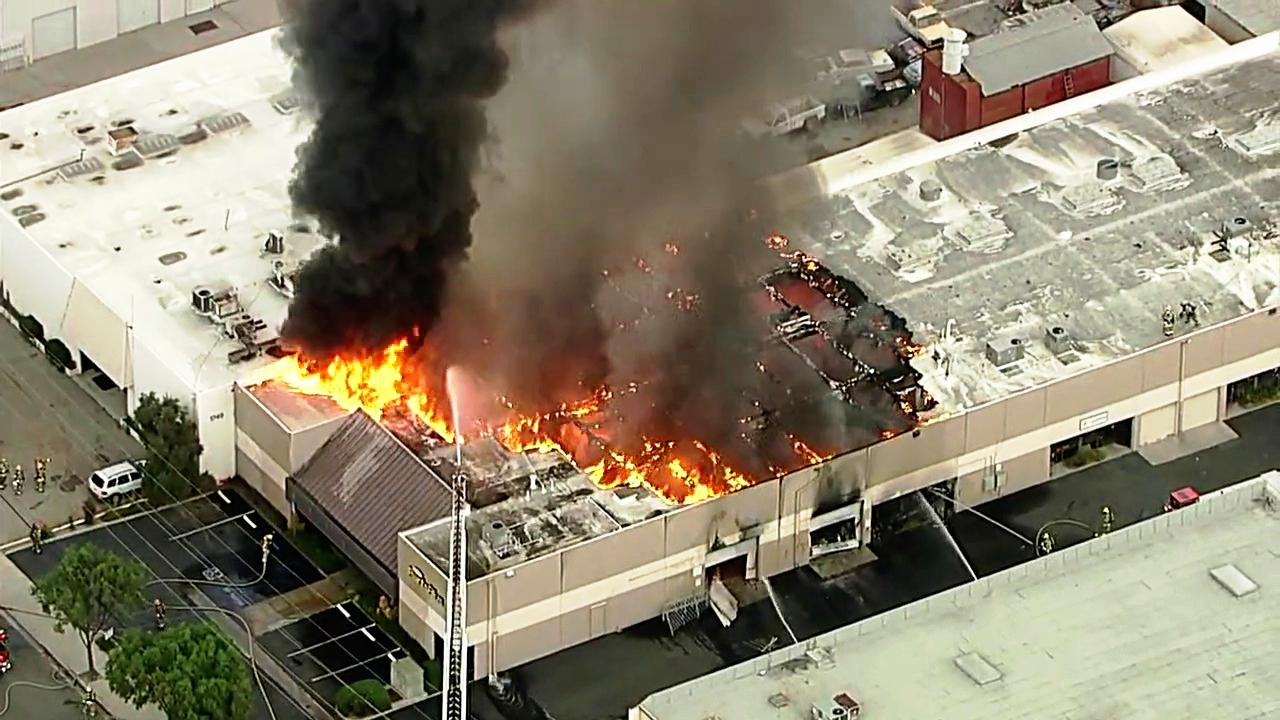fire: (267, 334, 418, 415)
smoke: (275, 9, 509, 328)
